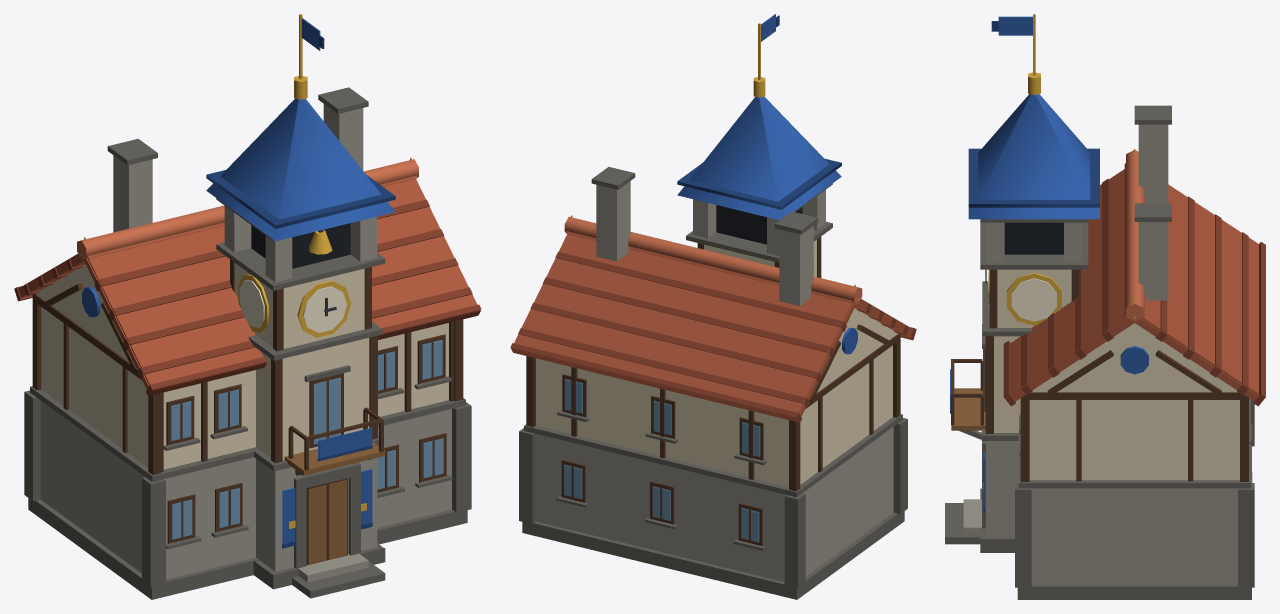
The model's file is town-hall.glb.
3 renders of one model, left to right at view 1: azimuth 30°, elevation 25°; view 2: azimuth 150°, elevation 25°; view 3: azimuth 270°, elevation 25°, orthographic. The views are drawn at different scales.
Visible parts, largest first — view 1: town-hall; view 2: town-hall; view 3: town-hall.
Part boxes in pixels (bbox=[...]): town-hall: bbox=[14, 14, 481, 599]; town-hall: bbox=[510, 14, 916, 599]; town-hall: bbox=[945, 14, 1265, 599].
Size of the model in its own units: 9.84 by 15.2 by 8.62.
1 material, 1 textured.
